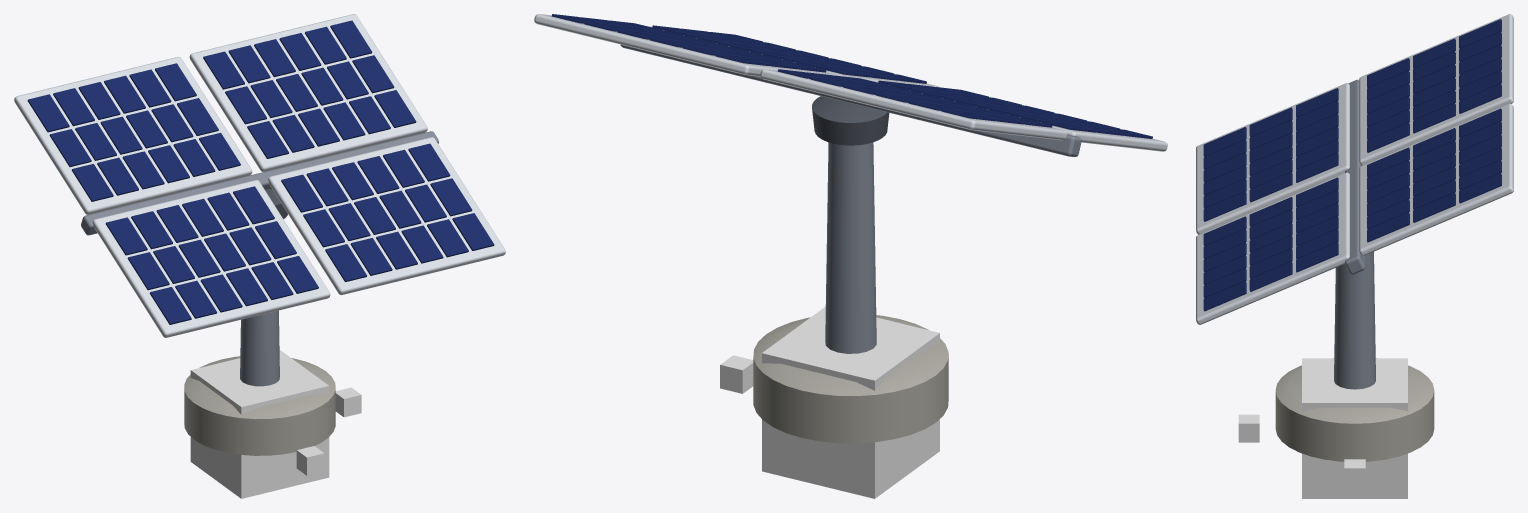
The model's file is SolarMono.fbx.
3 renders of one model, left to right at view 1: azimuth 30°, elevation 25°; view 2: azimuth 150°, elevation 25°; view 3: azimuth 270°, elevation 25°, orthographic. The views are drawn at different scales.
Parts seen in each view (by area): view 1: Array__SolarCell, Array__Chrome, Body__Concrete, Origin__Pivot, Body__Steel, Array__Steel, Origin__AxisZ, Origin__AxisX; view 2: Origin__Pivot, Body__Concrete, Array__SolarCell, Body__Steel, Array__Chrome, Array__MetalDark, Array__Steel, Origin__AxisX; view 3: Array__SolarCell, Array__Chrome, Body__Concrete, Origin__Pivot, Body__Steel, Array__Steel, Origin__AxisX, Origin__AxisZ.
Boxes of the visible parts, box(x1,y1,x2,y2) form: Array__SolarCell: box(27, 20, 494, 324); Array__Chrome: box(14, 14, 505, 337); Body__Concrete: box(184, 356, 335, 455); Origin__Pivot: box(190, 350, 329, 498); Body__Steel: box(240, 310, 279, 386); Array__Steel: box(81, 131, 438, 235); Origin__AxisZ: box(296, 446, 324, 475); Origin__AxisX: box(335, 387, 361, 417); Origin__Pivot: box(762, 306, 939, 498); Body__Concrete: box(753, 315, 948, 443); Array__SolarCell: box(551, 14, 1152, 138); Body__Steel: box(825, 142, 876, 353); Array__Chrome: box(534, 14, 1167, 151); Array__MetalDark: box(812, 96, 889, 145); Array__Steel: box(620, 44, 1081, 156); Origin__AxisX: box(720, 355, 753, 393); Array__SolarCell: box(1203, 19, 1501, 311); Array__Chrome: box(1196, 14, 1513, 324); Body__Concrete: box(1275, 358, 1434, 461); Origin__Pivot: box(1302, 358, 1407, 498); Body__Steel: box(1334, 252, 1375, 389); Array__Steel: box(1345, 79, 1364, 274); Origin__AxisX: box(1344, 459, 1365, 487); Origin__AxisZ: box(1238, 414, 1259, 442).
Size of the model in its own units: 4 by 3.92 by 3.
